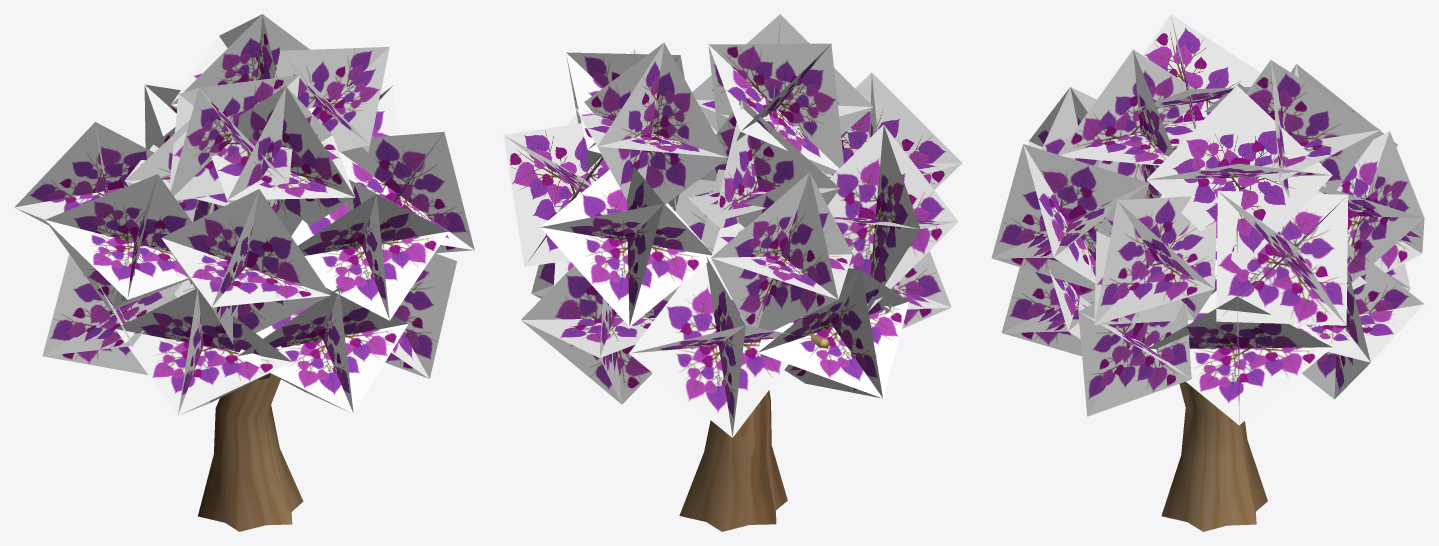
Rendered from Tree_01.FBX.
3 renders of one model, left to right at view 1: azimuth 30°, elevation 25°; view 2: azimuth 150°, elevation 25°; view 3: azimuth 270°, elevation 25°, orthographic. The views are drawn at different scales.
Visible parts, largest first — view 1: Leaf, Trunk; view 2: Leaf, Trunk; view 3: Leaf, Trunk.
Part boxes in pixels (bbox=[...]): Leaf: bbox=[14, 14, 474, 415]; Trunk: bbox=[198, 373, 303, 531]; Leaf: bbox=[503, 14, 962, 437]; Trunk: bbox=[679, 334, 829, 531]; Leaf: bbox=[991, 14, 1424, 425]; Trunk: bbox=[1135, 176, 1267, 531].
Size of the model in its own units: 365 by 427 by 358.
Materials: 2 (2 with a texture image).
